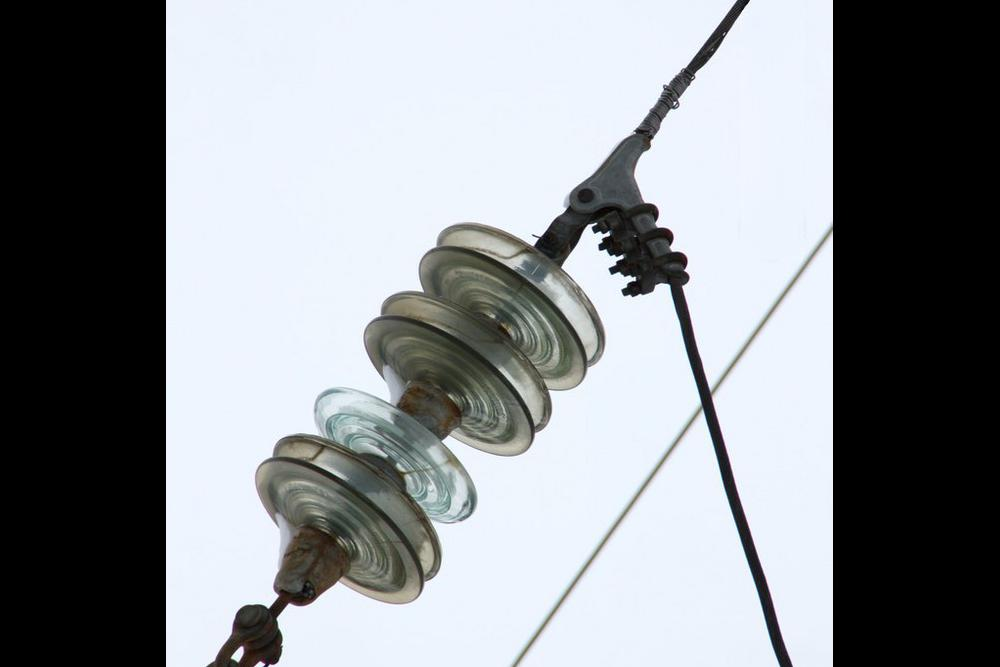insulator: (248, 215, 611, 611)
insulator_stringdrop: (309, 282, 564, 529)
